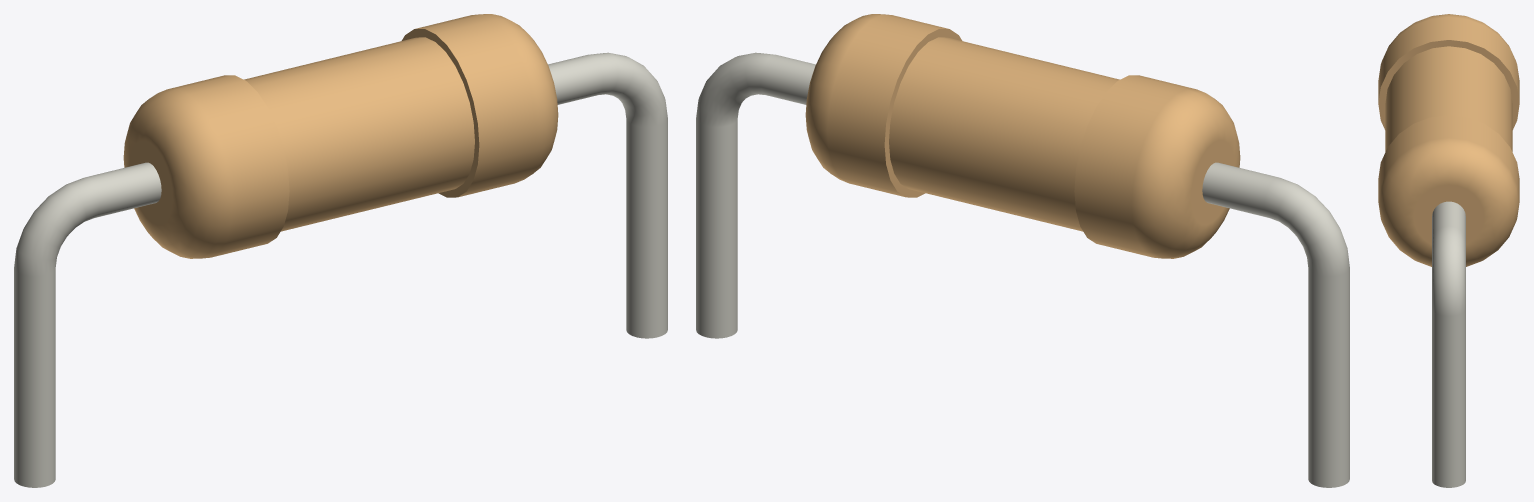
File: Resistor_THT__R_Axial_DIN0207_L6.3mm_D2.5mm_P10.16mm_Horizontal.glb
3 renders of one model, left to right at view 1: azimuth 30°, elevation 25°; view 2: azimuth 150°, elevation 25°; view 3: azimuth 270°, elevation 25°, orthographic. The views are drawn at different scales.
Parts seen in each view (by area): view 1: R_Axial_DIN0207_L63mm_D25mm_P1016mm_Horizontal; view 2: R_Axial_DIN0207_L63mm_D25mm_P1016mm_Horizontal; view 3: R_Axial_DIN0207_L63mm_D25mm_P1016mm_Horizontal.
Part boxes in pixels (<box>): R_Axial_DIN0207_L63mm_D25mm_P1016mm_Horizontal: <box>14,14,667,487</box>; R_Axial_DIN0207_L63mm_D25mm_P1016mm_Horizontal: <box>696,14,1349,487</box>; R_Axial_DIN0207_L63mm_D25mm_P1016mm_Horizontal: <box>1378,14,1519,487</box>.
Bounding box in the file's own units: 0.0108 × 0.0055 × 0.0025.
